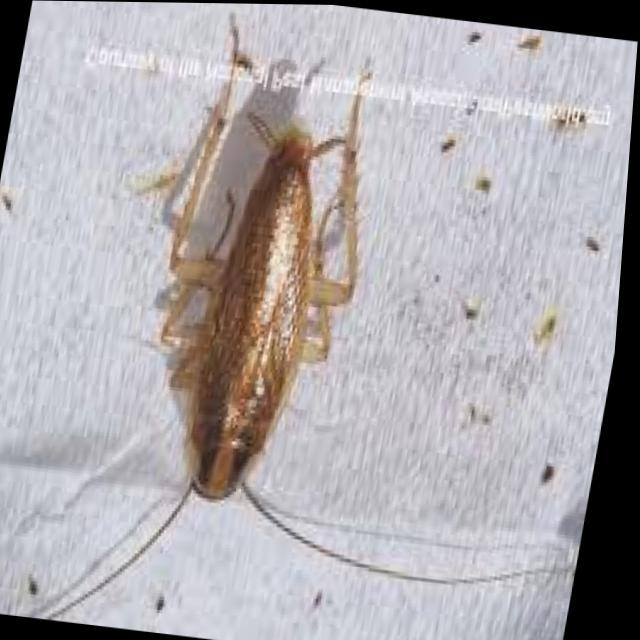Cockroach: (43, 1, 488, 640)
